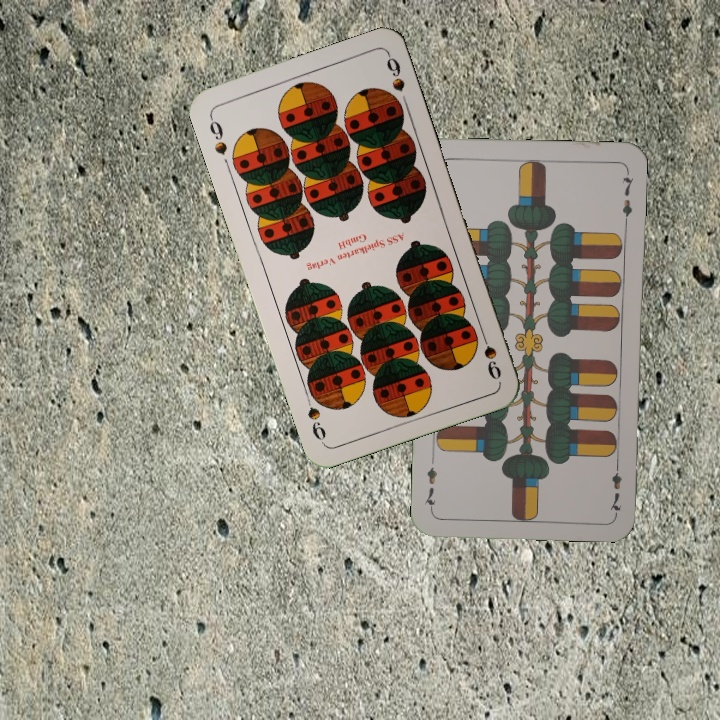E7: (605, 457, 625, 516)
S9: (476, 325, 504, 383), (205, 111, 230, 158)
